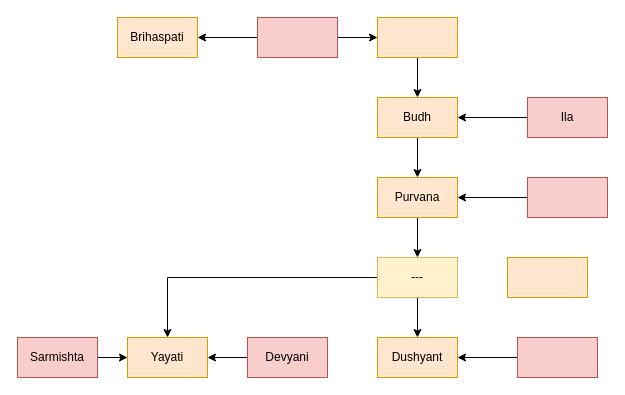
The diagram is 625 pixels wide and 395 high, and some of its shapes have lost their labels. The centre of each missing label's shape, as x and y in pixels:
"Chandra" belongs at point 417,37.
"Kaushik" belongs at point 547,277.
"Shakuntala" belongs at point 557,357.
"Tara" belongs at point 297,37.
"Urvashi" belongs at point 567,197.
